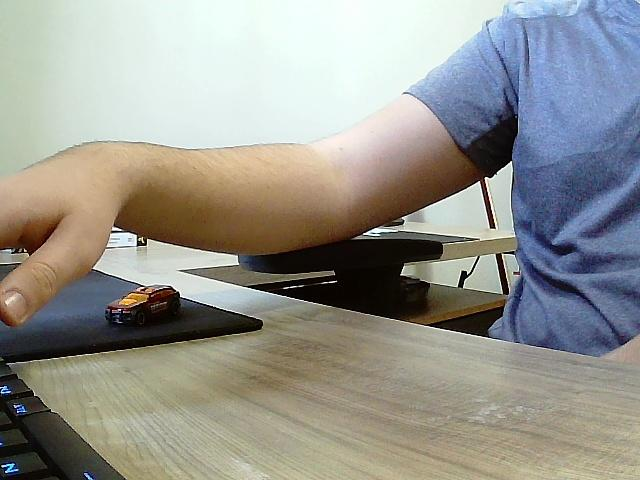Carro: (103, 287, 184, 328)
